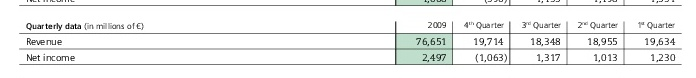table: (0, 0, 696, 78)
